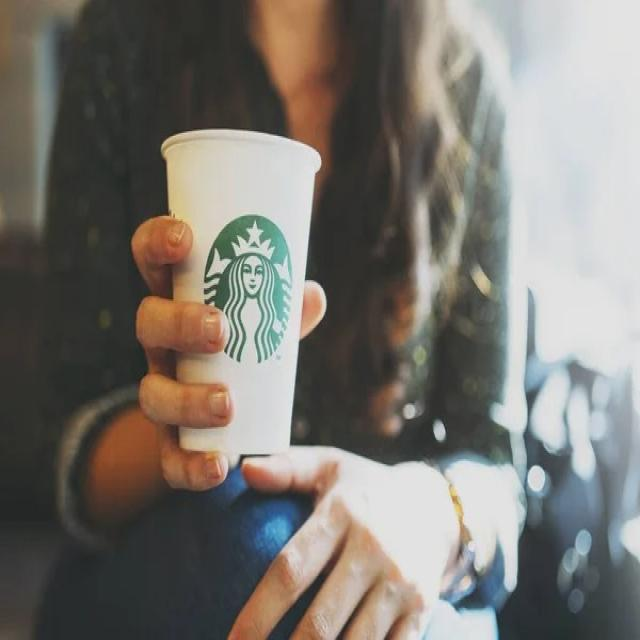starbucks: (200, 212, 303, 381)
